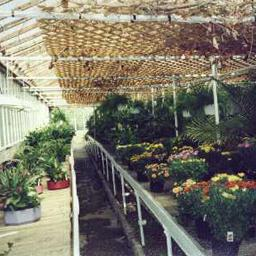Matera: (196, 178, 249, 255), (4, 166, 45, 228), (39, 139, 72, 193), (173, 175, 202, 228), (144, 161, 170, 195), (129, 153, 154, 184), (119, 148, 130, 161)
